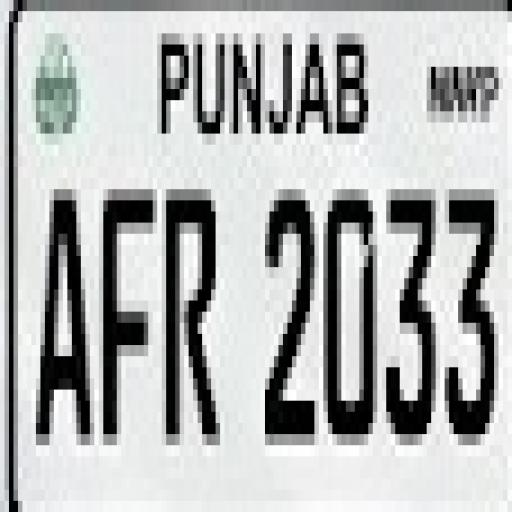0: (321, 188, 377, 458)
2: (259, 188, 317, 468)
3: (440, 177, 502, 470), (382, 177, 438, 451)
A: (29, 180, 94, 474)
F: (98, 187, 158, 471)
R: (164, 168, 227, 478)
